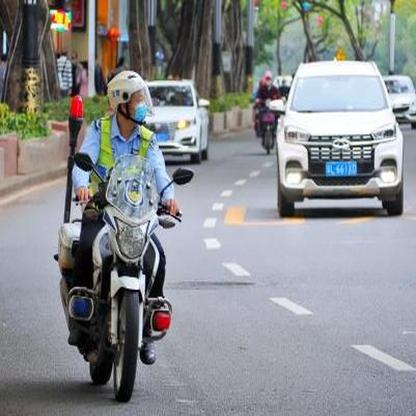target: (53, 68, 199, 406)
